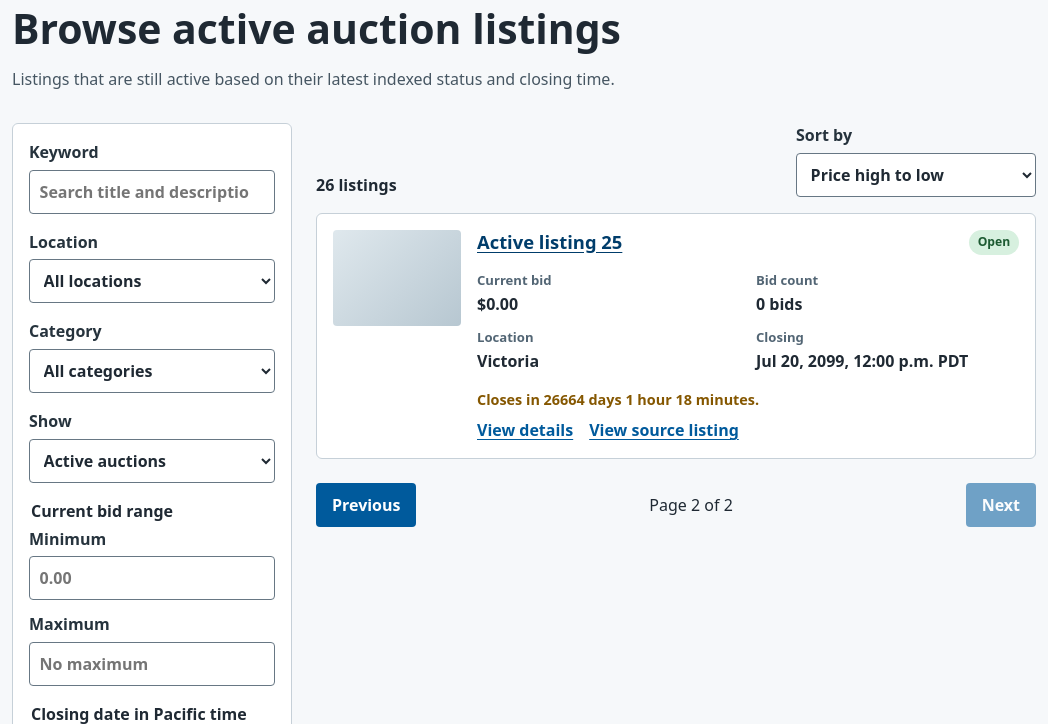
Test: ListingBrowserPage › applies Show through the form, resets the page, and scopes facet requests
Select "Ended auctions" in the dropdown labelled "Show" at x=152, y=461, box [29,439,275,483]
(page scrolled)
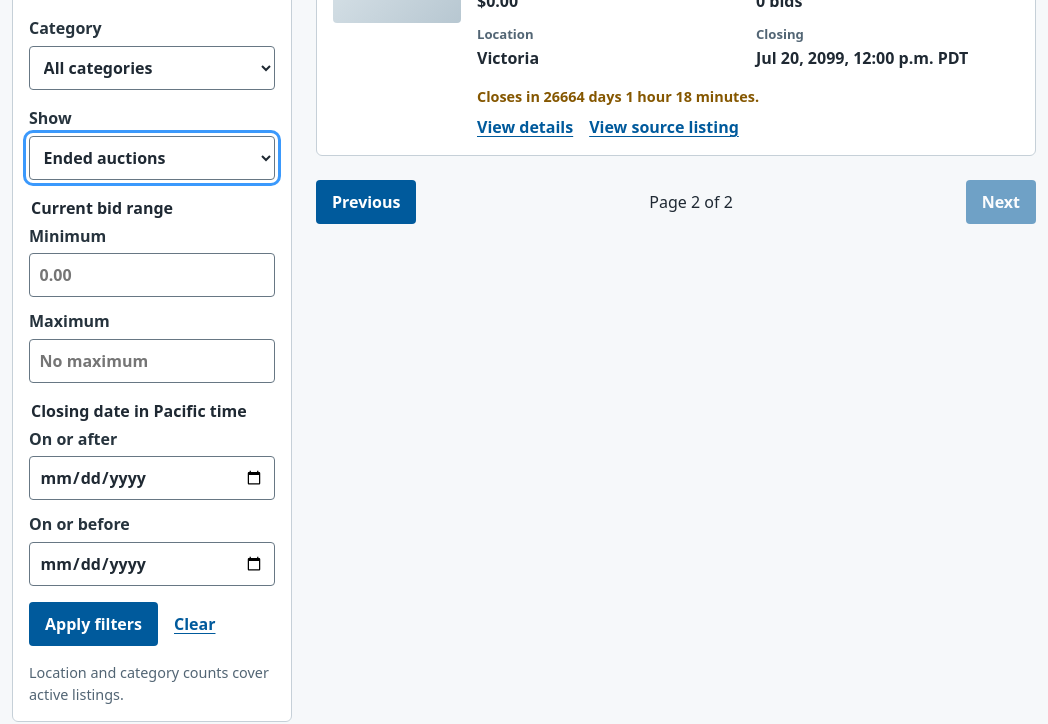
Click the button "Apply filters" at x=94, y=624, box [29,602,158,646]
(page scrolled)
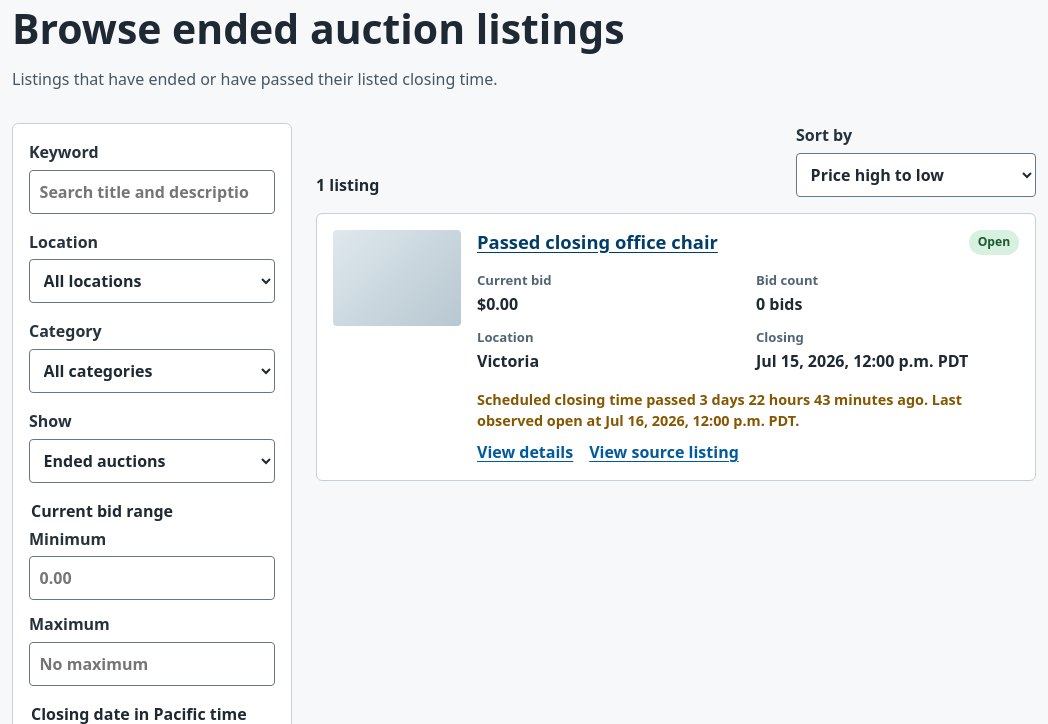
Check: the heading "Browse ended auction listings" is shown, box [12,5,732,51]
